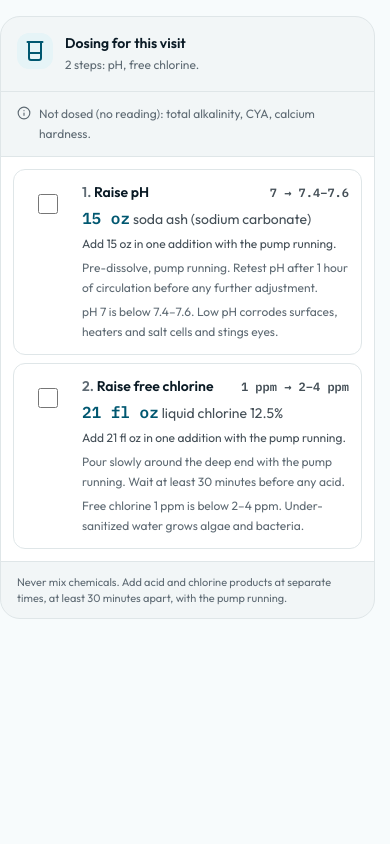
DosingRecommendations › tracks per-step done checkboxes with accessible 44px targets
Click the checkbox named "Done: step 1, pH". click: (48,204)
box: [38,194,58,214]
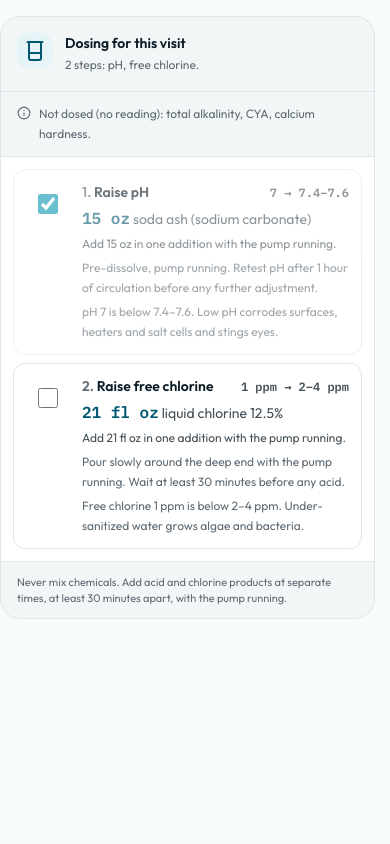
Check: the list item named "Done: step 1, pH" has class "opacity-60", box [13,169,362,355]
Check: the checkbox named "Done: step 1, pH" is checked, box [38,194,58,214]
